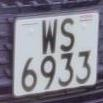3: (58, 50, 77, 92), (75, 48, 94, 88)
6: (19, 54, 41, 95)
9: (38, 54, 60, 92)
S: (58, 15, 78, 57)
W: (39, 17, 60, 58)
